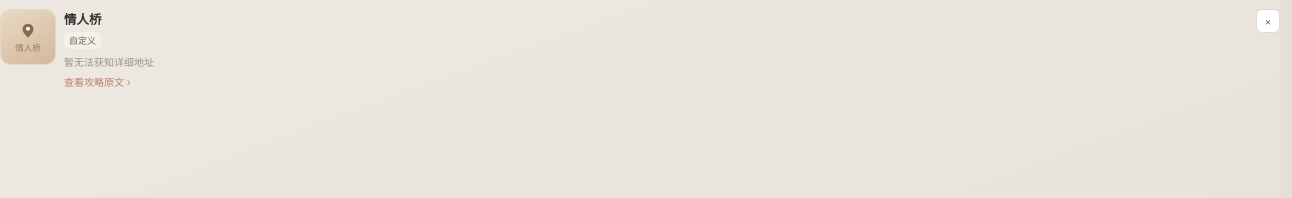
Test case: StopRow 原文入口（任务 124 外链语义） › 多来源：点击弹极简列表（标题 + 打开原文），每条为新标签外链
The image size is (1292, 198).
Click the button with class "child-evidence".
click(97, 82)  # box [64,74,131,89]
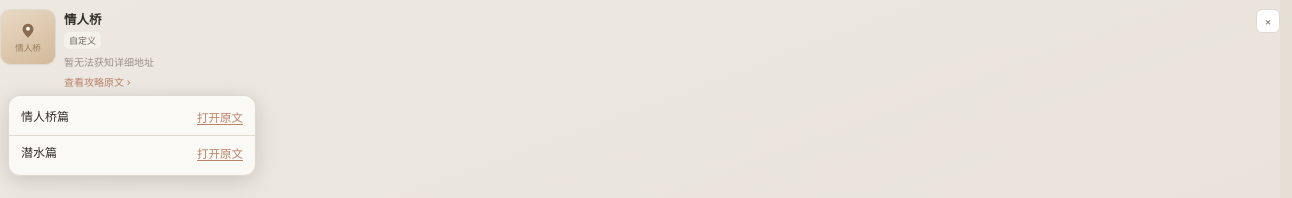
Now the menu with class "source-menu" is shown, box [8,95,256,176]
Now the text "情人桥篇" is shown, box [21,109,69,124]
Now the text "潜水篇" is shown, box [21,145,57,160]
